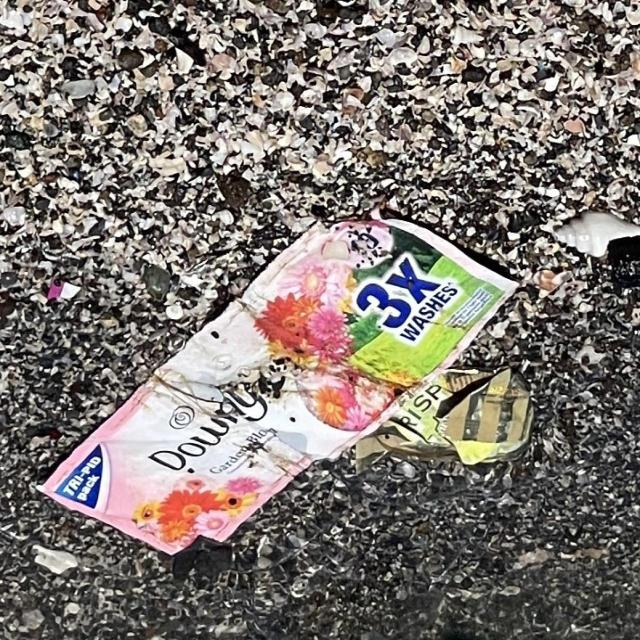plastic_waste: (32, 212, 527, 558)
